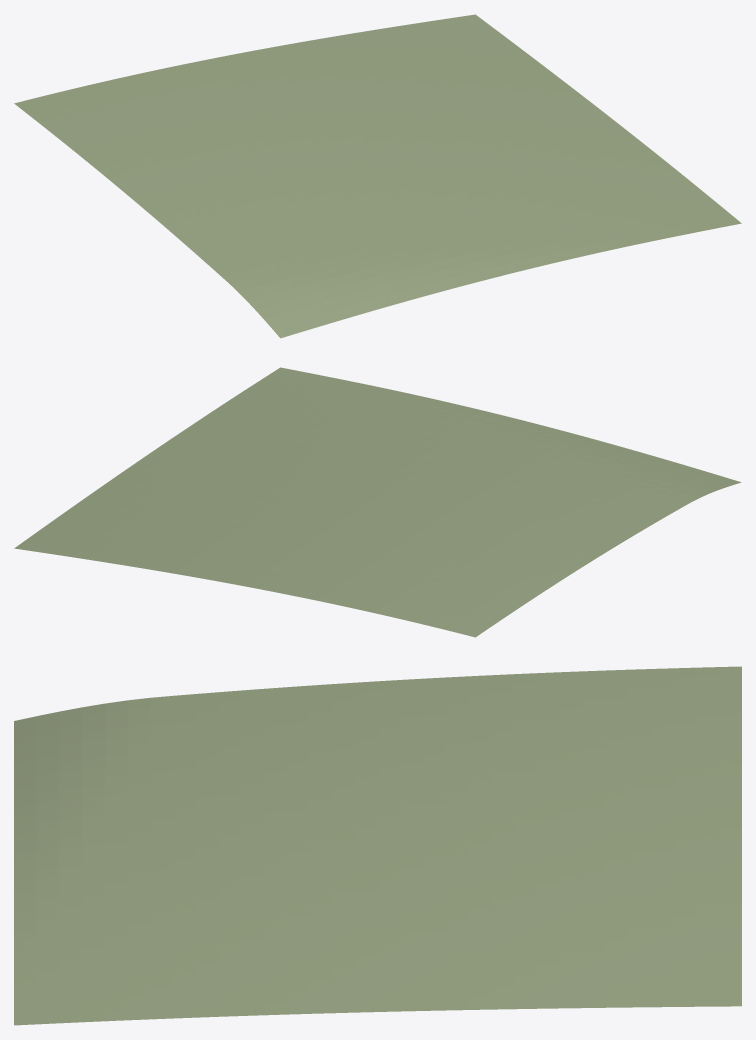
File: valley-11-6.glb
The picture shows the model from 3 angles, top to bottom: view 1: azimuth 30°, elevation 25°; view 2: azimuth 150°, elevation 25°; view 3: azimuth 270°, elevation 25°; orthographic projection. The views are drawn at different scales.
Visible parts, largest first — view 1: valley-11-6; view 2: valley-11-6; view 3: valley-11-6.
Boxes of the visible parts, x1,y1,x2,y2 form: valley-11-6: (14,14,741,338); valley-11-6: (14,367,741,637); valley-11-6: (14,666,741,1025).
Size of the model in its own units: 256 by 21.31 by 256.
